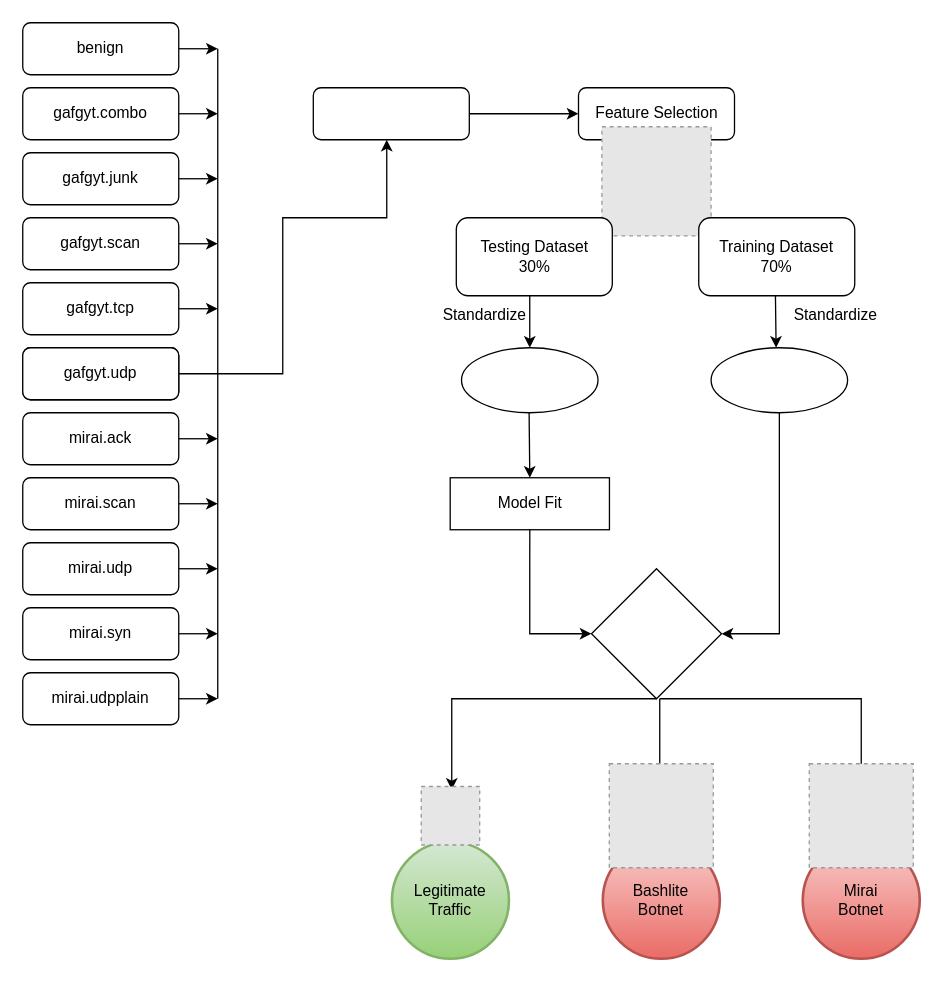
The diagram is 944 pixels wide and 983 high, and some of its shapes have lost their labels. Grey dashed boxes stand in for pictures. The shapes that lost their labels are listed below. From the top down, each one's centre as x and y in pixels, then its label:
At pixel 390 113: "Dataset".
At pixel 529 379: "X-Test + Y-Test".
At pixel 779 379: "X-Train + Y-Train".
At pixel 656 633: "Detection".
